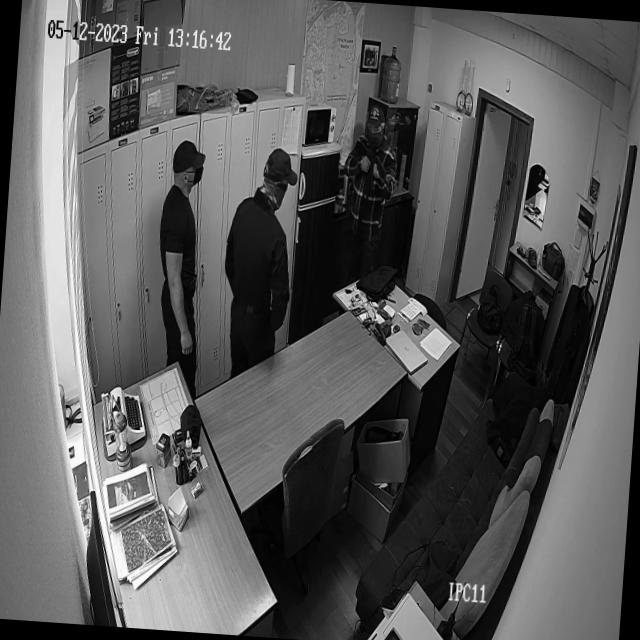gun: (356, 138, 390, 190)
person: (143, 136, 215, 386), (224, 147, 303, 367)
person with a gun: (338, 88, 408, 266)
